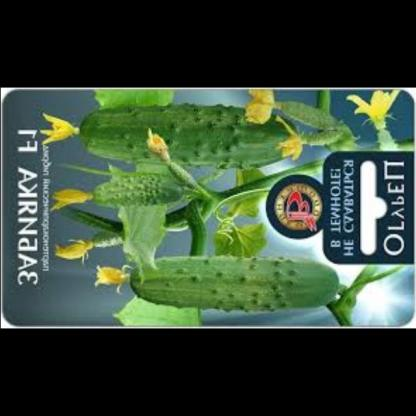cucumber: (68, 99, 310, 187), (112, 248, 345, 316), (80, 167, 198, 215)
